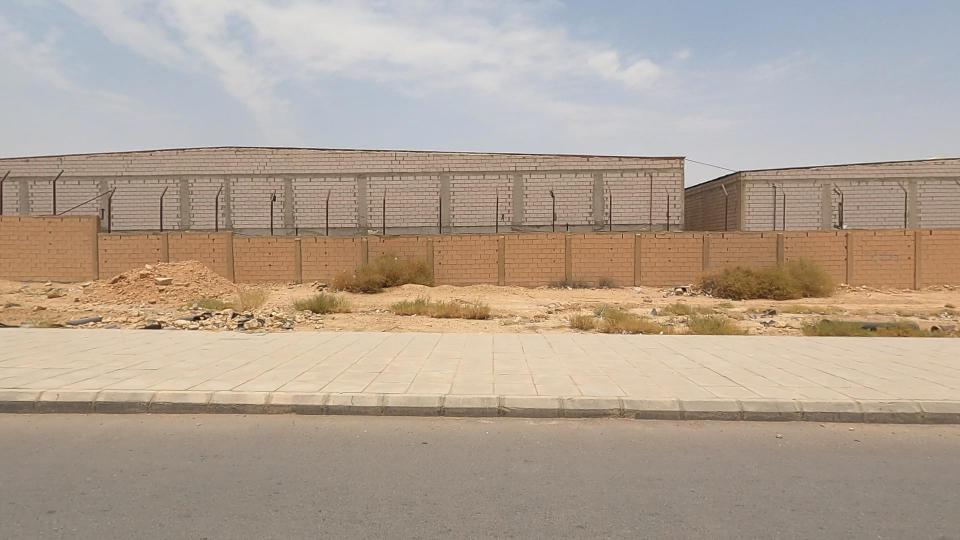GARBAGE: (122, 266, 350, 364)
